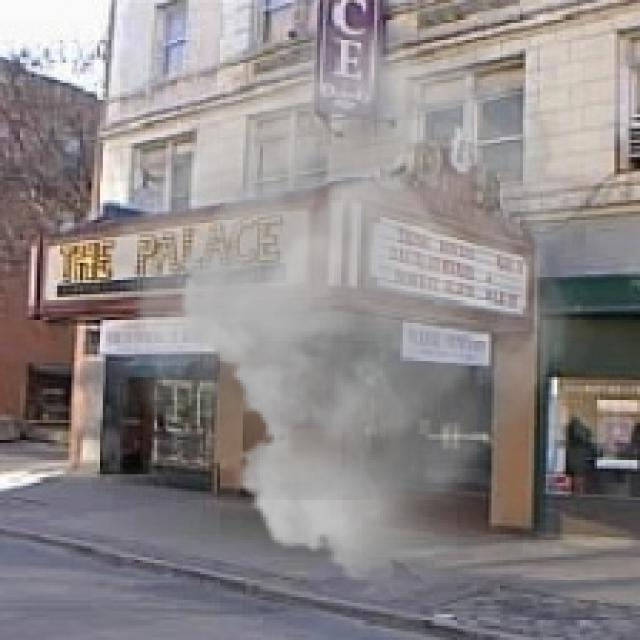smoke: (86, 26, 608, 594)
